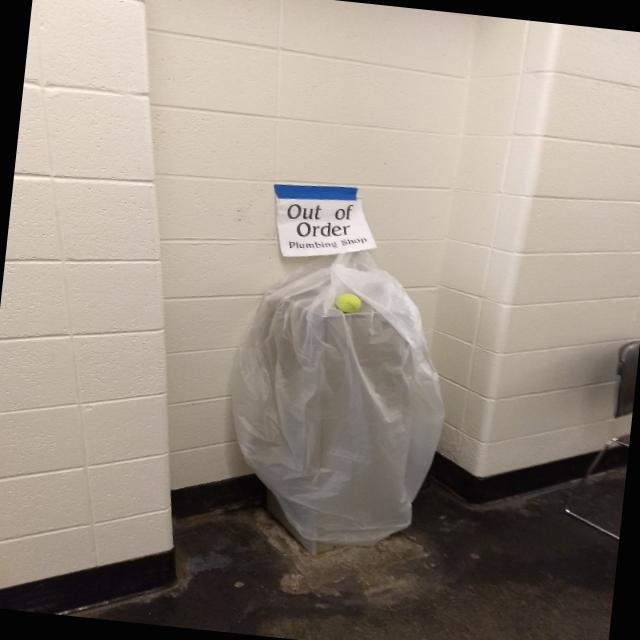Tennis Ball: (334, 290, 364, 316)
